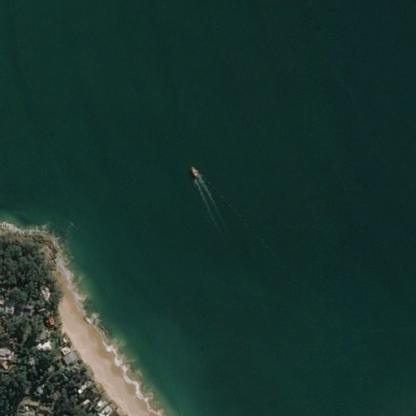ship: (23, 0, 31, 11)
